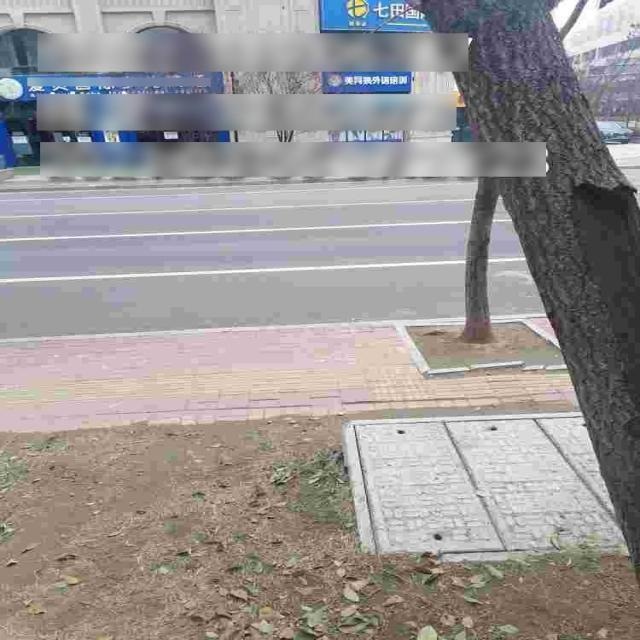Good: (326, 410, 640, 574)
